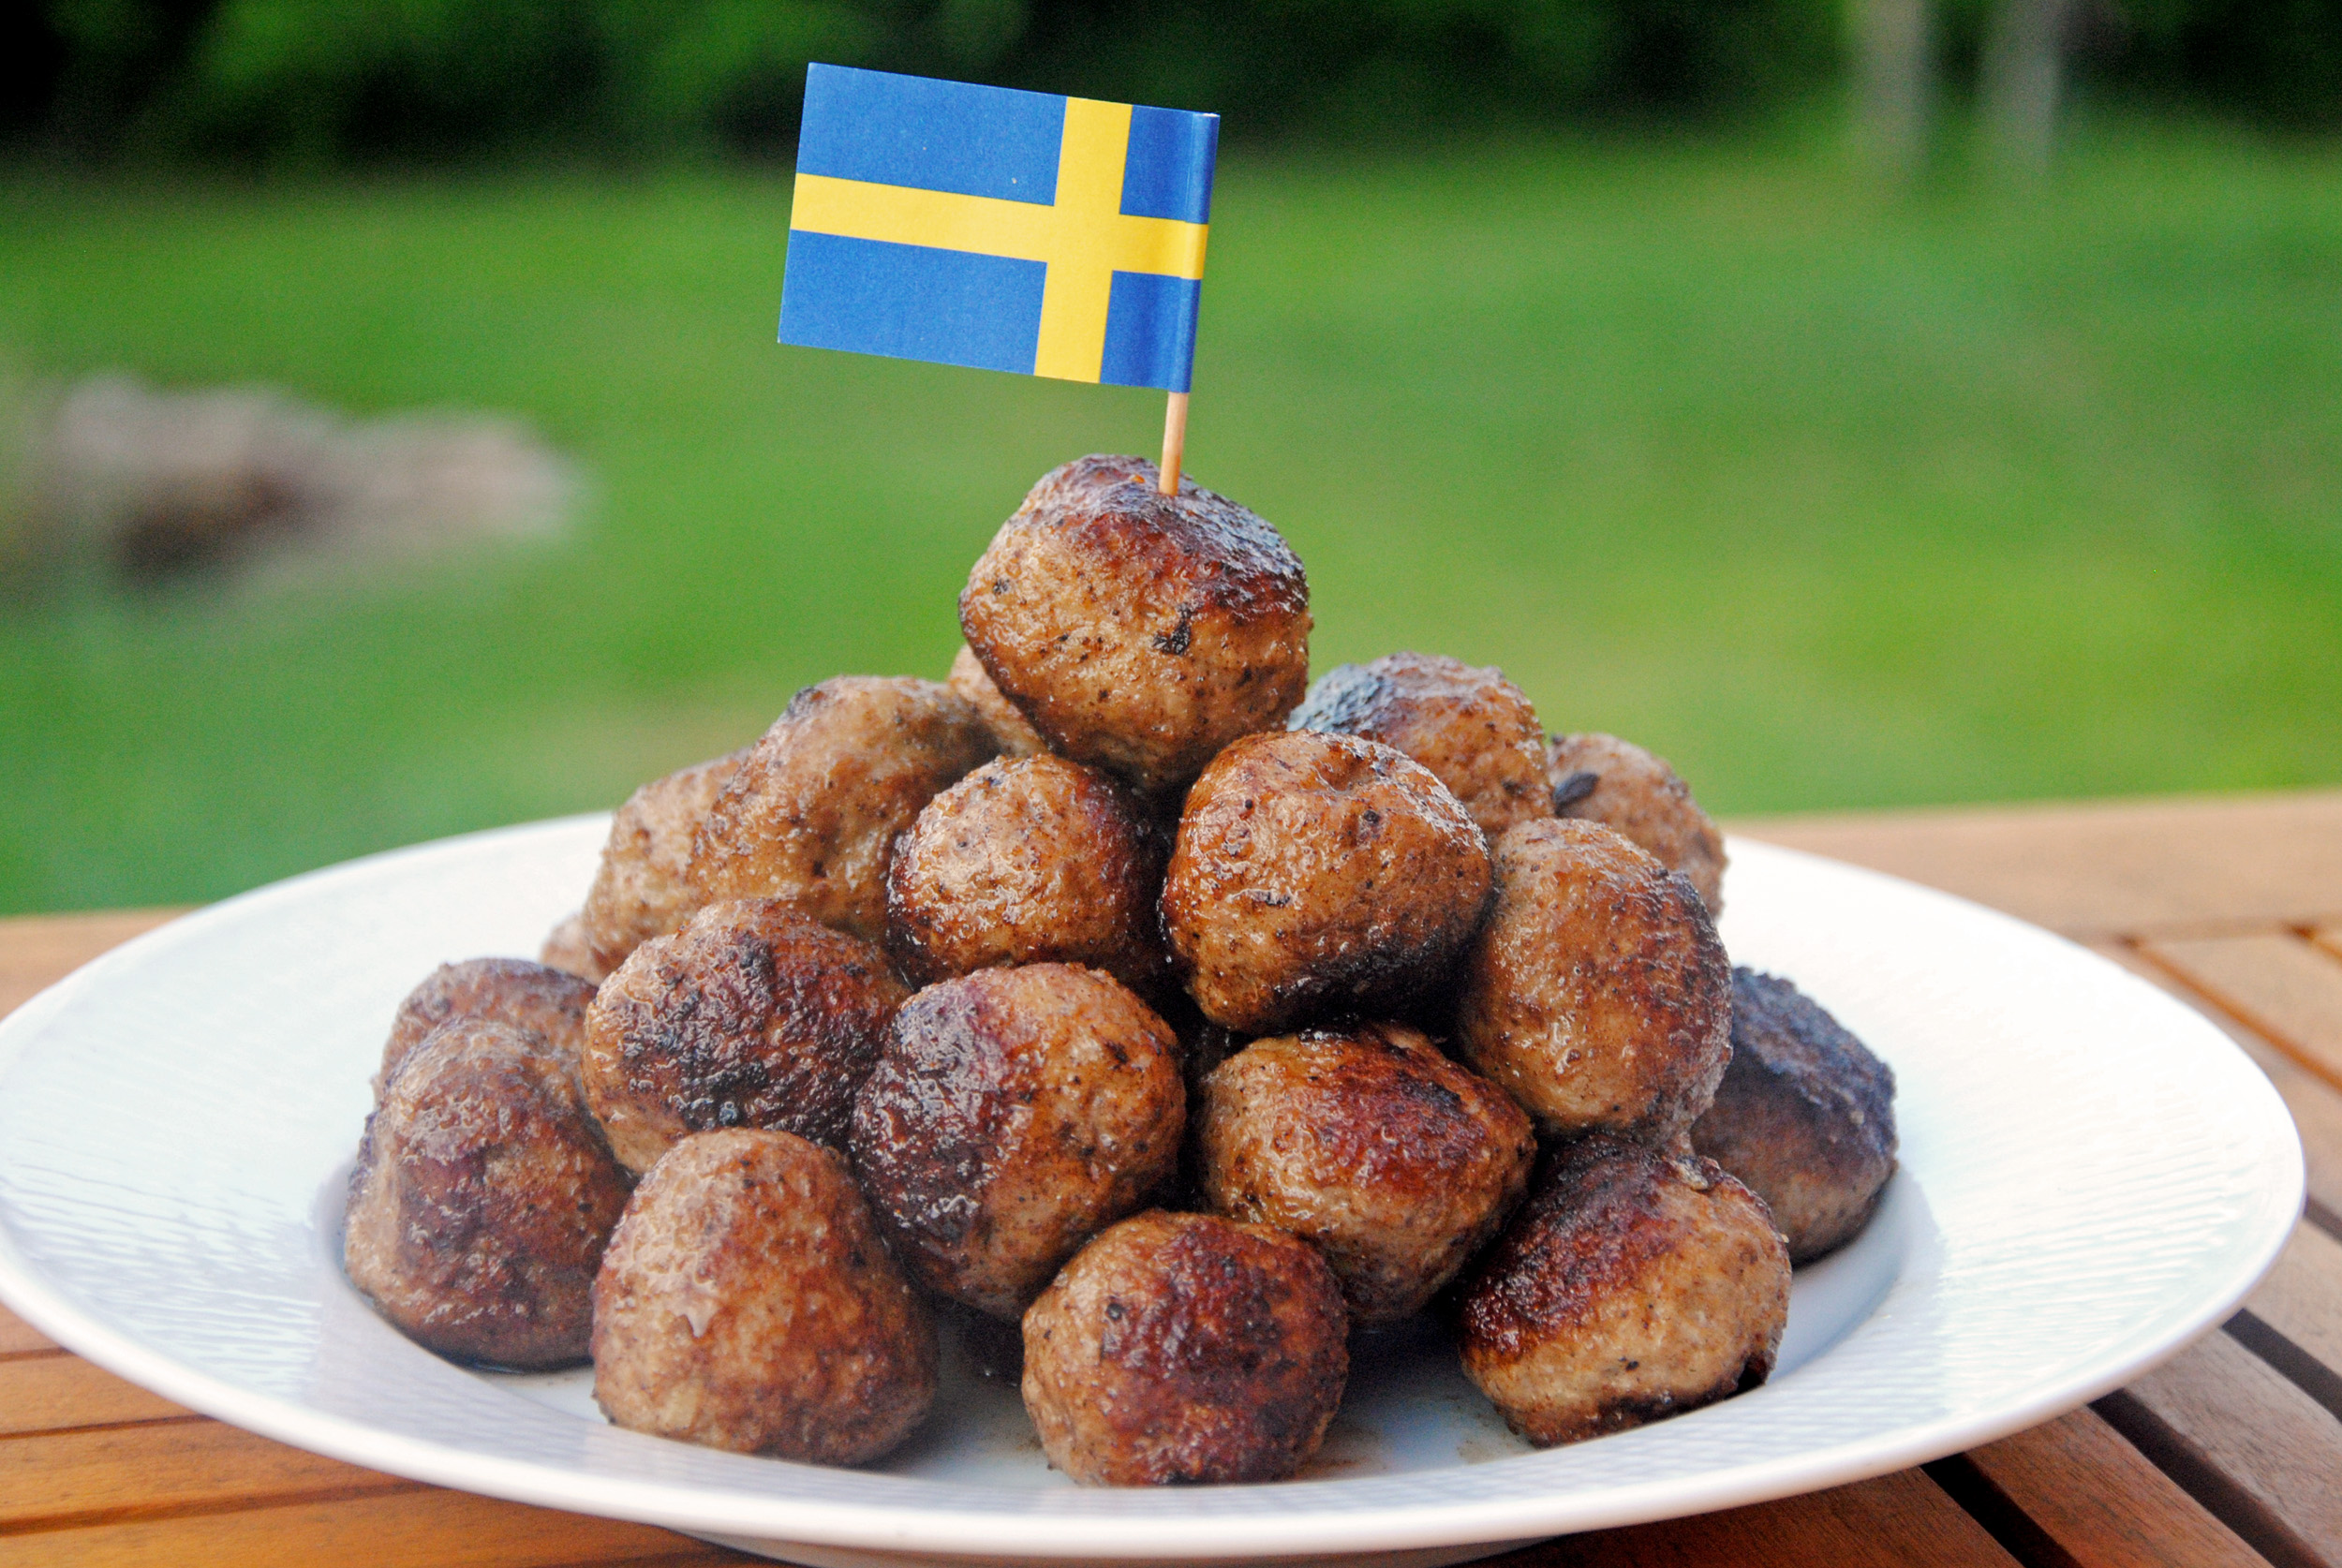meatballs: (457, 868, 1850, 1438), (707, 658, 1097, 959), (1132, 726, 1509, 1027), (971, 446, 1315, 735), (1491, 833, 1731, 1125)
